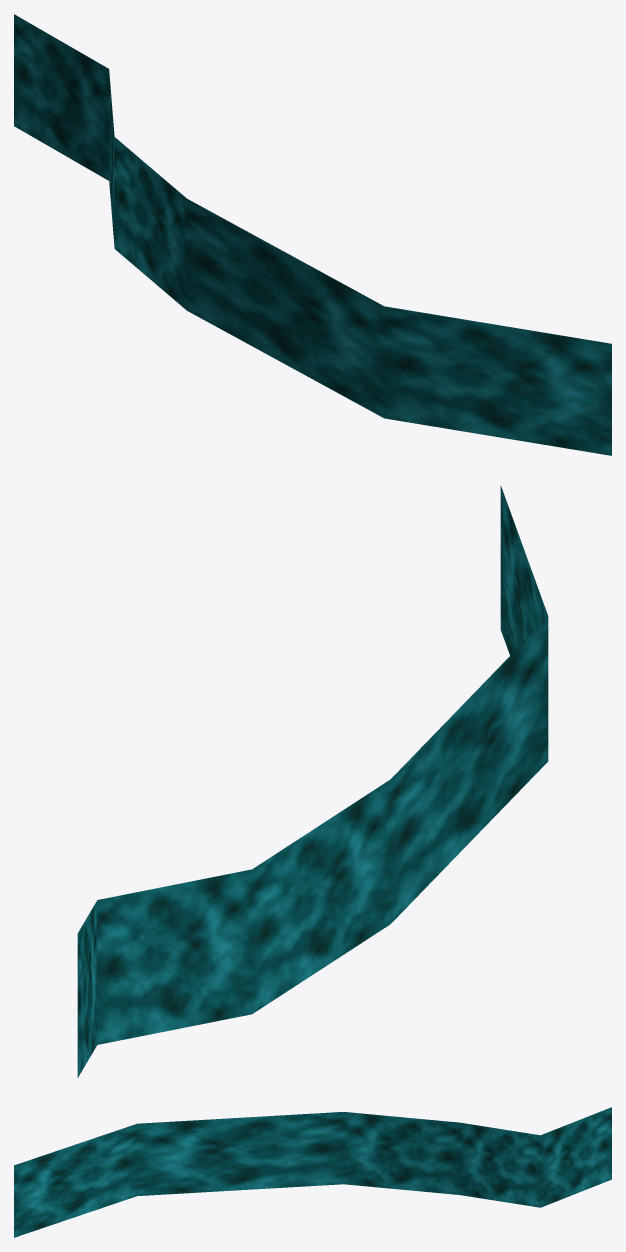
The model's file is MIRKWOOD_FOGG.fbx.
3 renders of one model, top to bottom at view 1: azimuth 30°, elevation 25°; view 2: azimuth 150°, elevation 25°; view 3: azimuth 270°, elevation 25°, orthographic. The views are drawn at different scales.
Parts seen in each view (by area): view 1: MIRKWOOD_FOGG; view 2: MIRKWOOD_FOGG; view 3: MIRKWOOD_FOGG.
Part boxes in pixels (bbox=[...]): MIRKWOOD_FOGG: bbox=[14, 14, 611, 455]; MIRKWOOD_FOGG: bbox=[77, 485, 548, 1077]; MIRKWOOD_FOGG: bbox=[14, 1107, 611, 1237].
Bounding box in the file's own units: 131498 × 106838 × 619919.
1 material, 1 textured.
